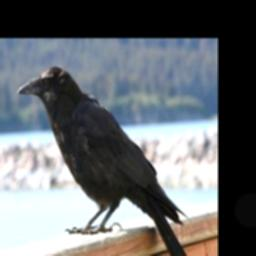Crow: (16, 64, 188, 256)
